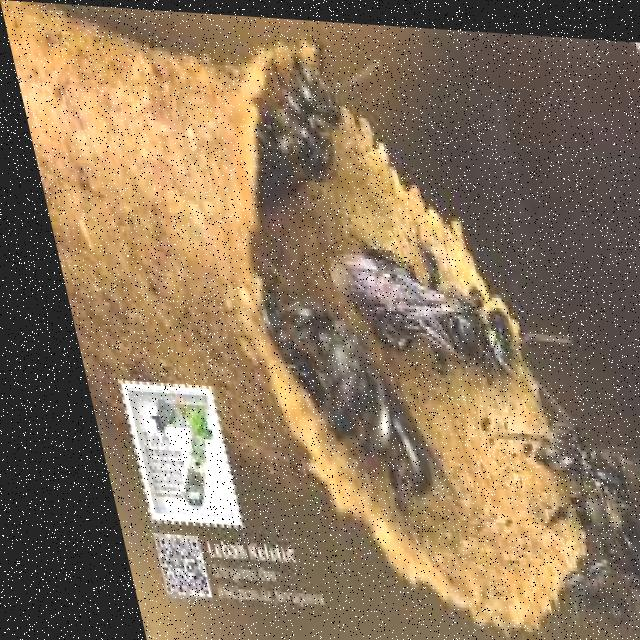Meliponula: (237, 274, 442, 529), (191, 26, 375, 216), (313, 203, 497, 385), (504, 410, 640, 640)
